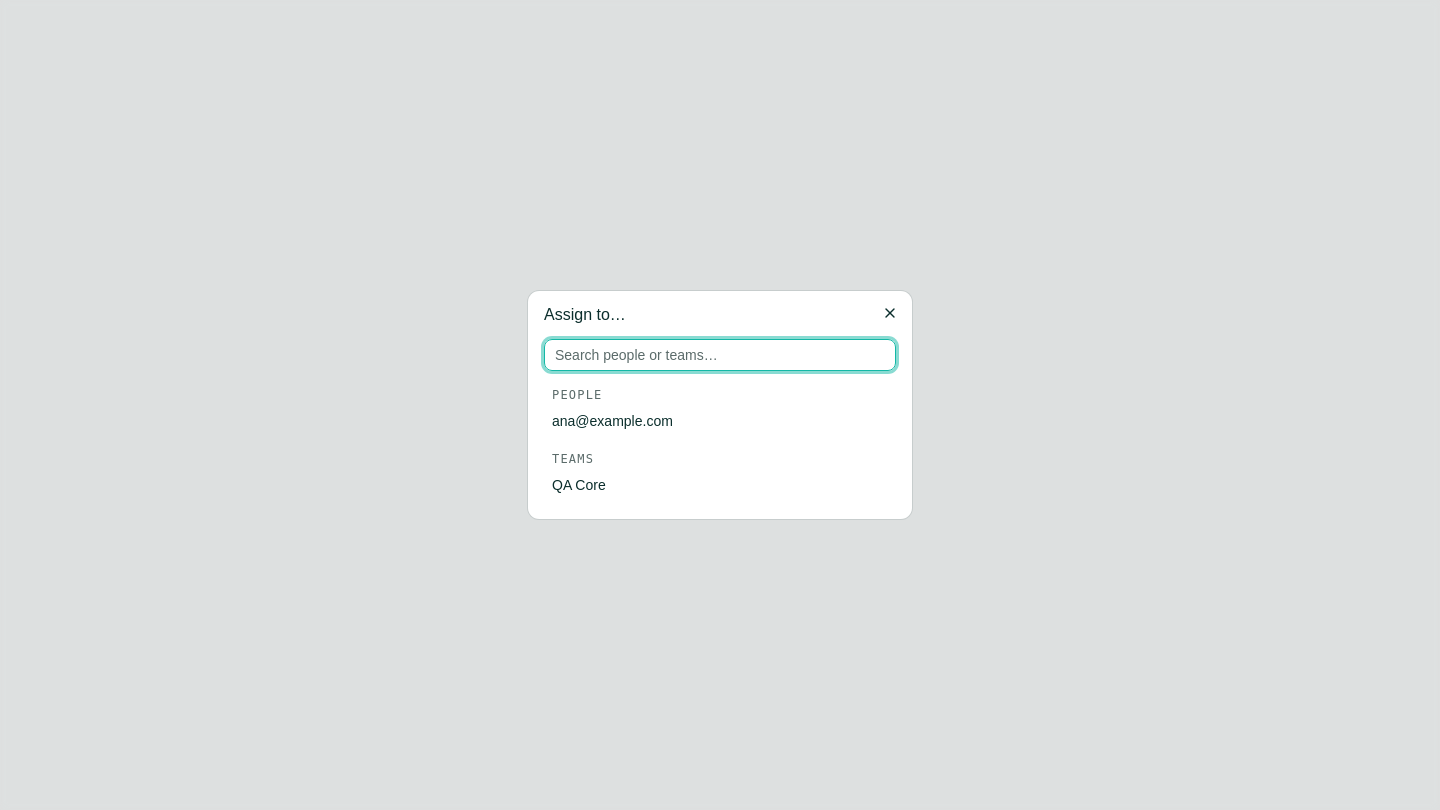
Scenario: AssignDialog › search narrows the list
The width and height of the screenshot is (1440, 810).
Expected: the button "ana@example.com" is shown, [544, 403, 896, 439]
Type "qa" into the field with placeholder "Search people or teams…" at (720, 355), box [544, 339, 896, 371]
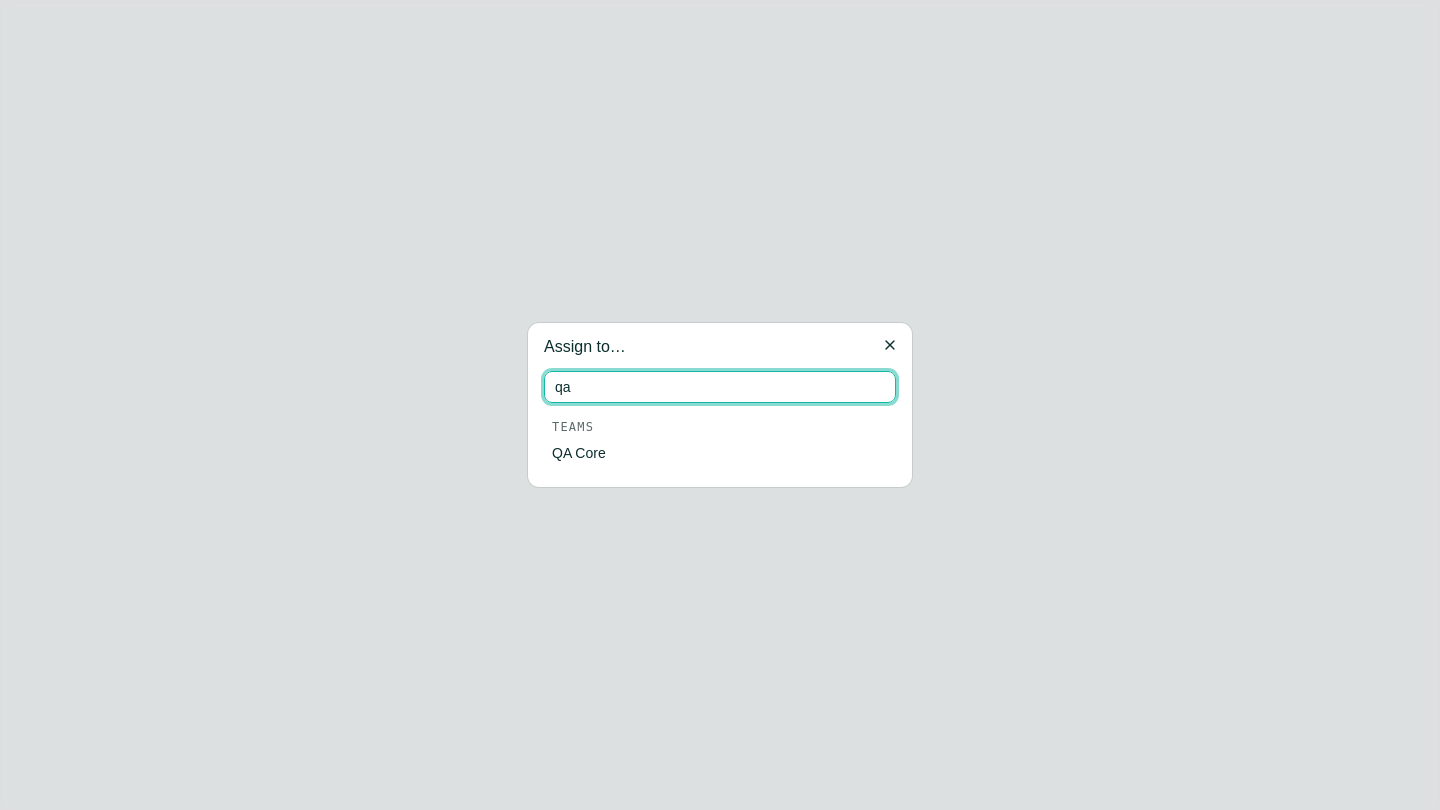
Expected: the button "QA Core" is shown, [544, 435, 896, 471]
Expected: the button "ana@example.com" is gone
